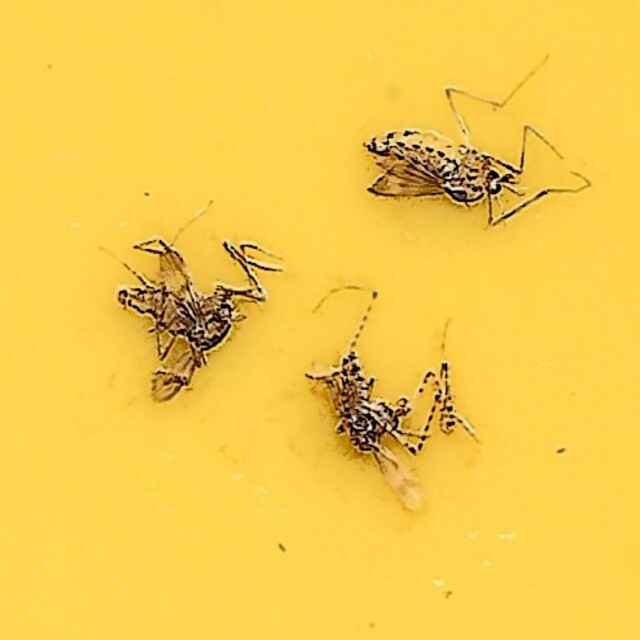Nematocera: (111, 235, 274, 409), (313, 348, 463, 513), (361, 127, 529, 232)
